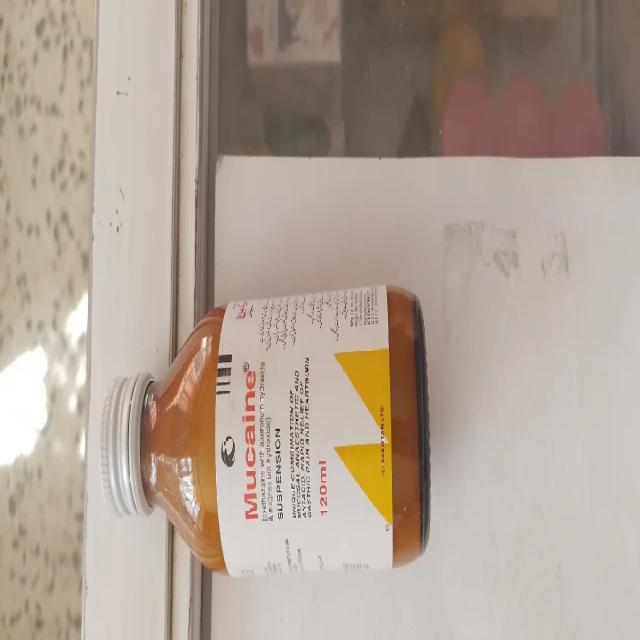drug-name: (243, 359, 259, 532)
